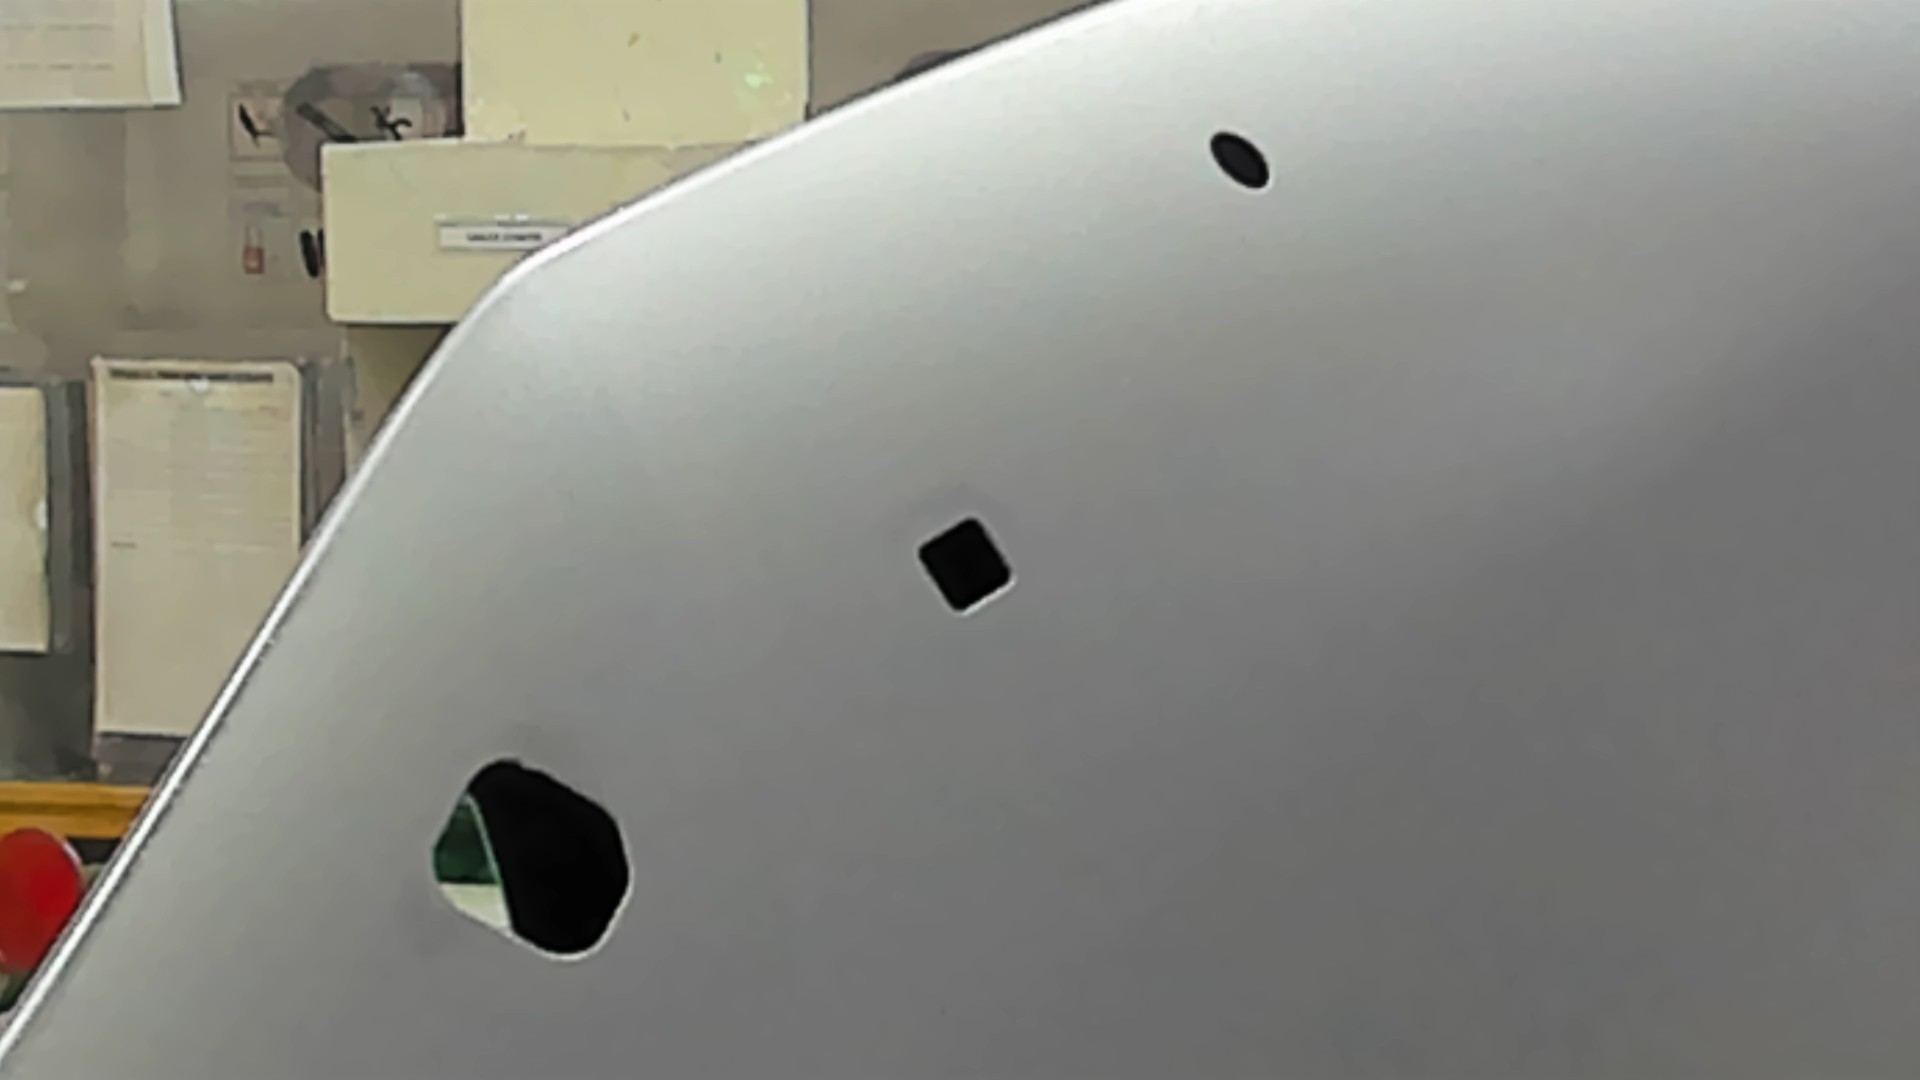chico: (1184, 115, 1298, 203)
grande: (415, 733, 647, 972)
mediano: (907, 501, 1027, 629)
